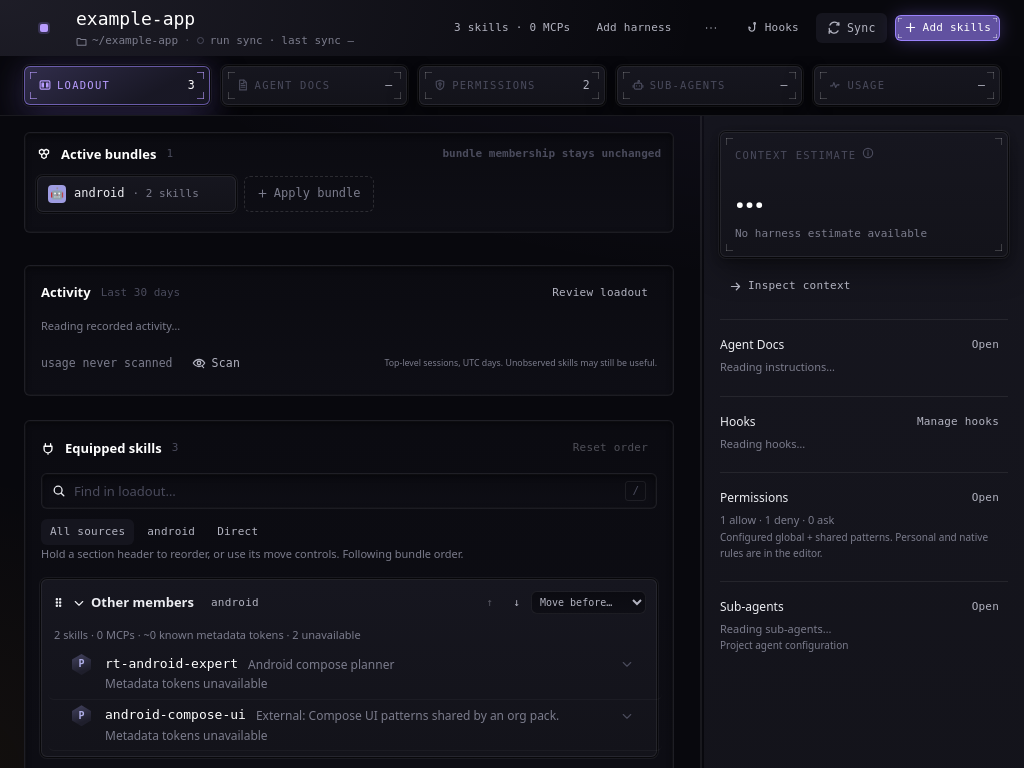
AvailableSkillsPanel row anatomy (B1) › renders no scope gem and marks an MCP row with .kind-mark, never an amber Tag
Click the button "Add skills" at (947, 28), box [895,15,1000,41]
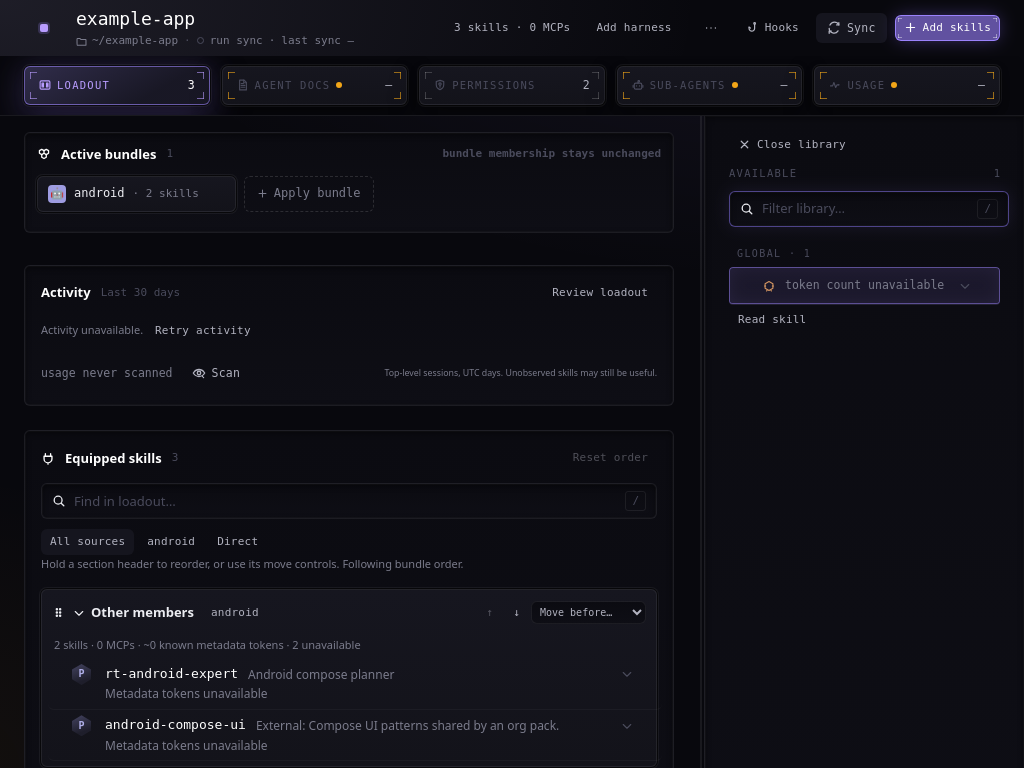
Check: the list item with class "avail-row-wrap" is shown, box [729,267,1000,339]
Check: the picture with class "kind-mark" is shown, box [763,280,775,292]
